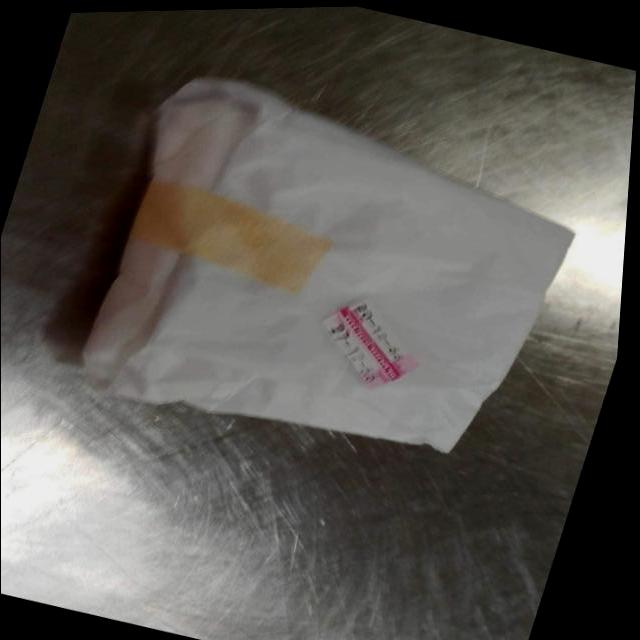General: (79, 74, 576, 455)
Sharps: (127, 177, 335, 294), (320, 295, 421, 387)
